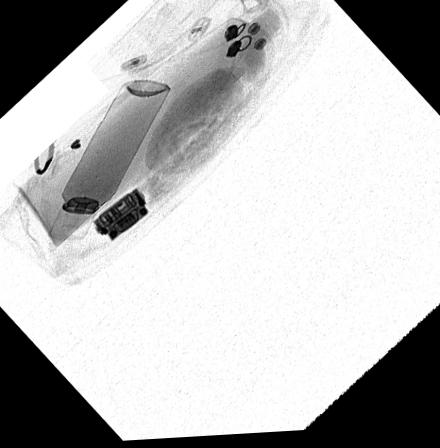Sprayer: (48, 81, 170, 241)
